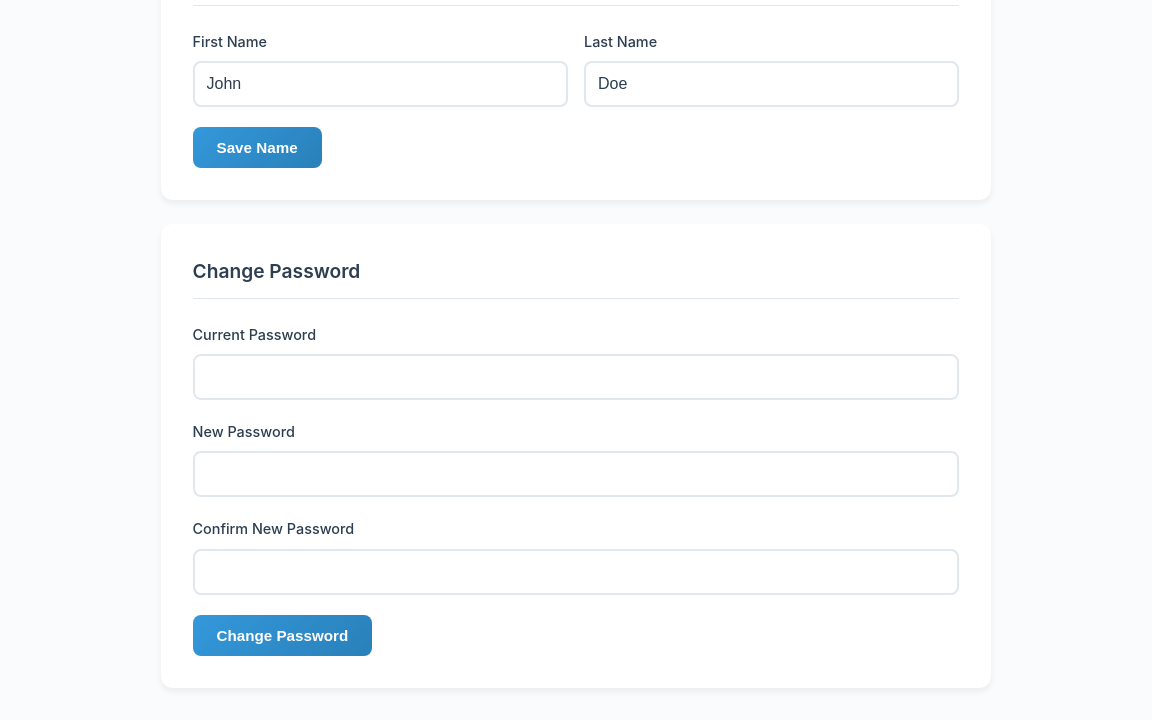
UserProfile › Change Password form › shows error when old password is incorrect
(page scrolled)
Type "WrongPass!" into the password field labelled "Current Password".
click(576, 377); type("WrongPass!")  # box [192,354,959,400]
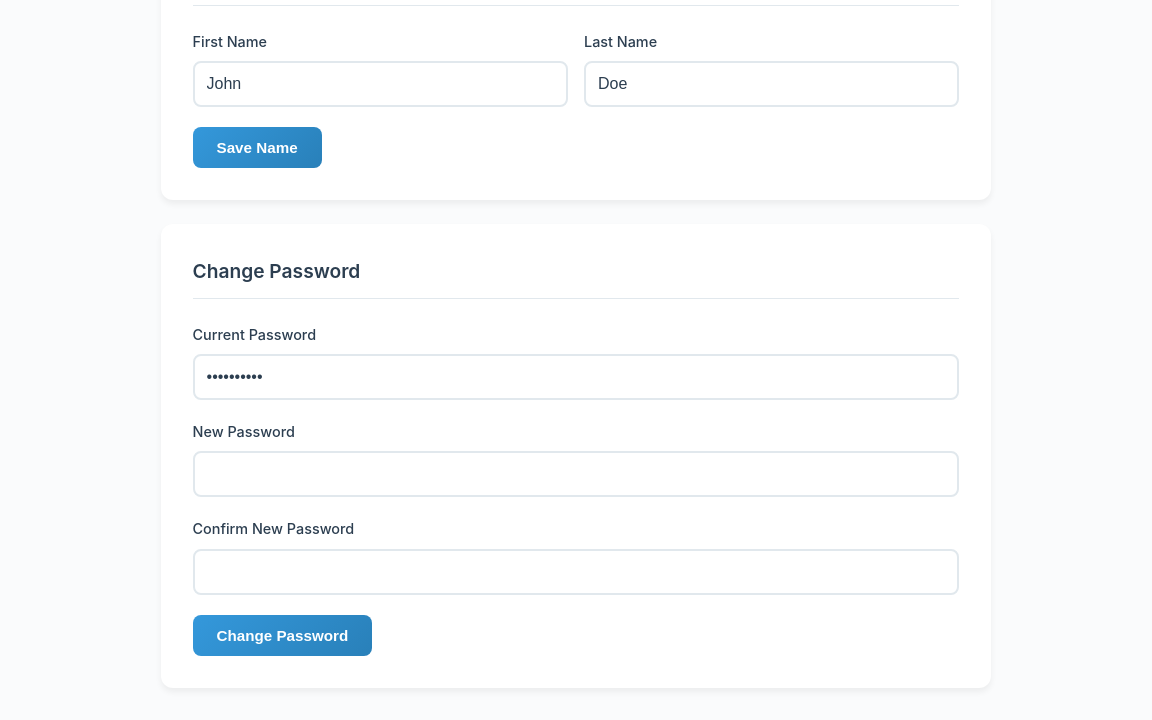
Type "NewPass1!" into the password field labelled "New Password".
click(576, 474); type("NewPass1!")  # box [192,452,959,498]
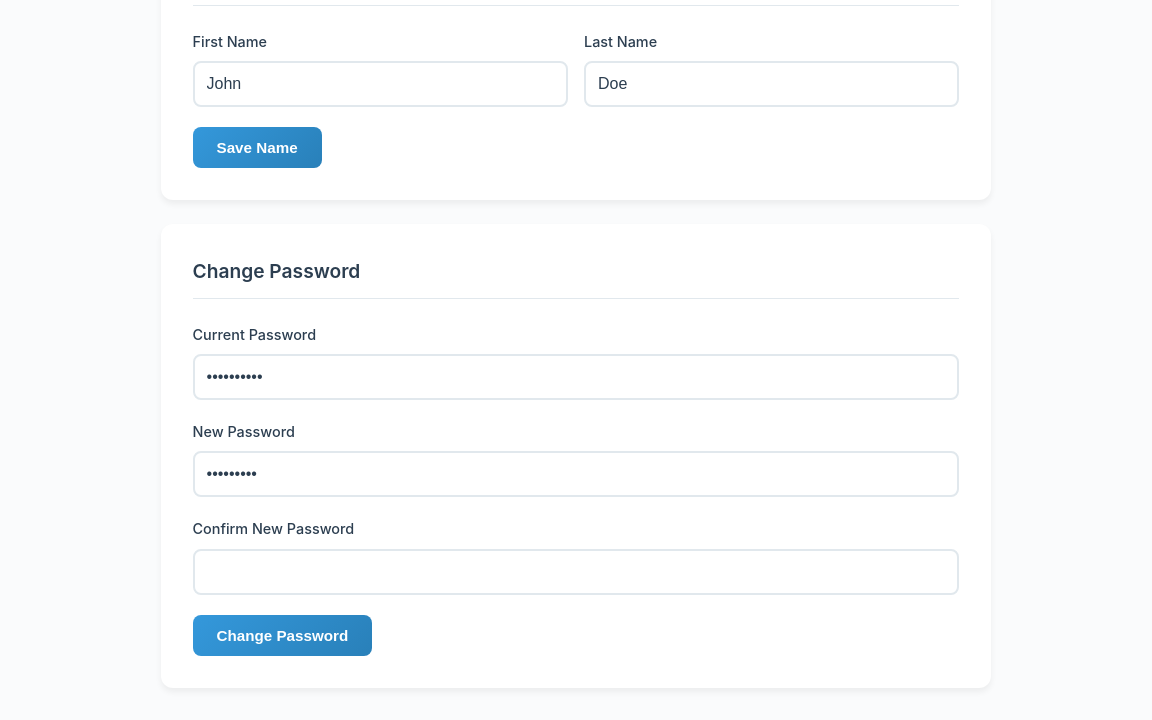
Type "NewPass1!" into the password field labelled "Confirm New Password".
click(576, 572); type("NewPass1!")  # box [192,548,959,594]
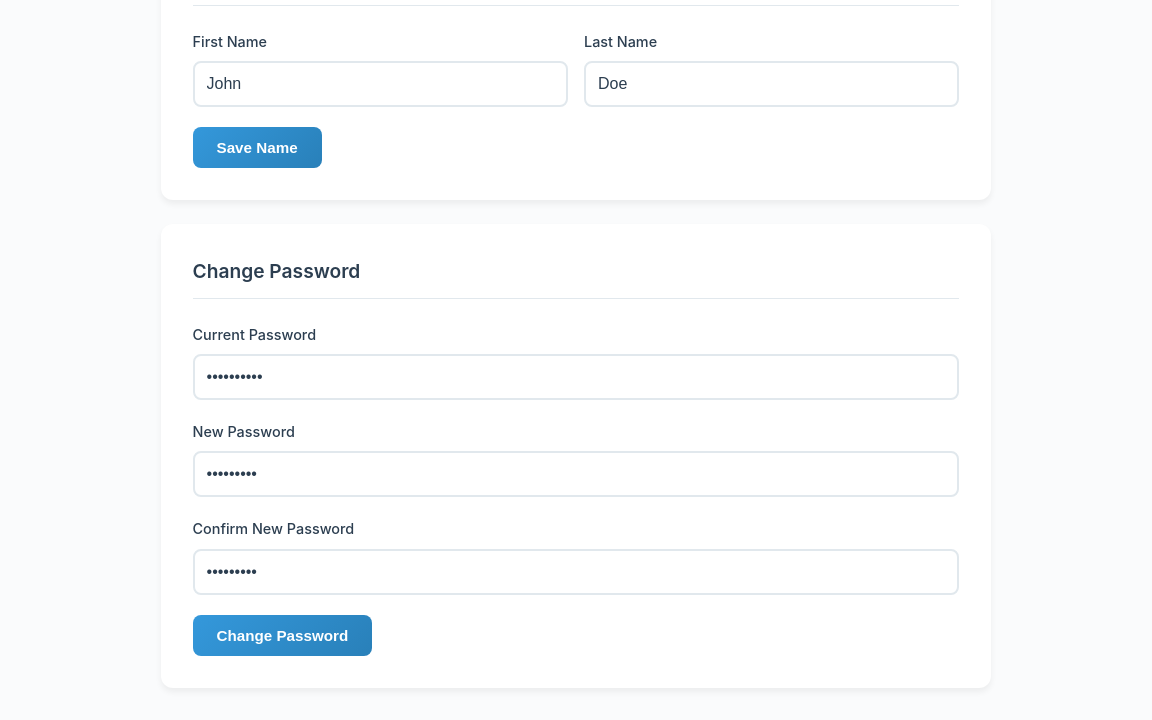
Click the button "Change Password".
click(282, 635)  # box [192,614,372,656]
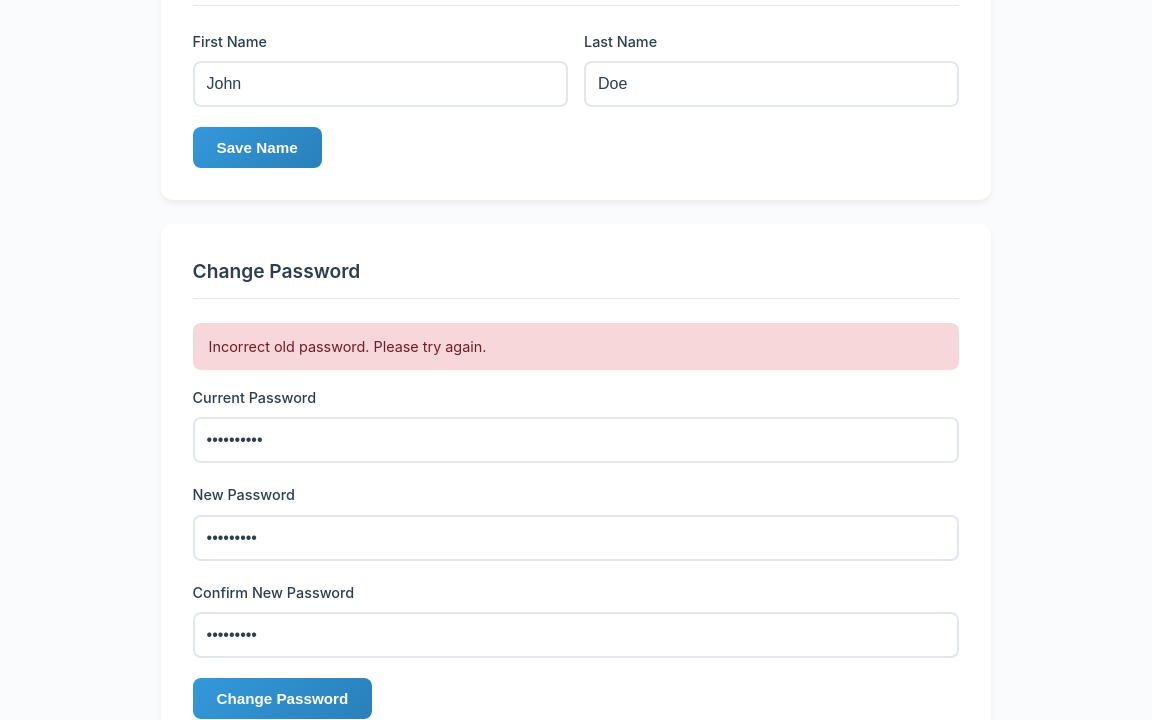
Now the text "Incorrect old password. Please try again." is shown, box [192,323,959,370]
